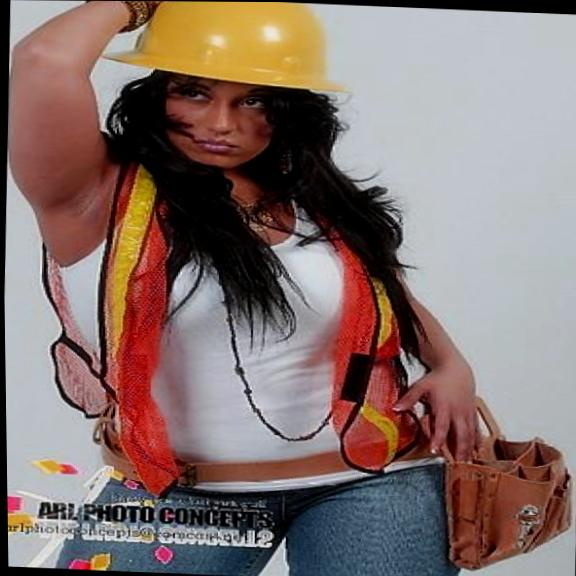safety_vest: (18, 132, 431, 513)
